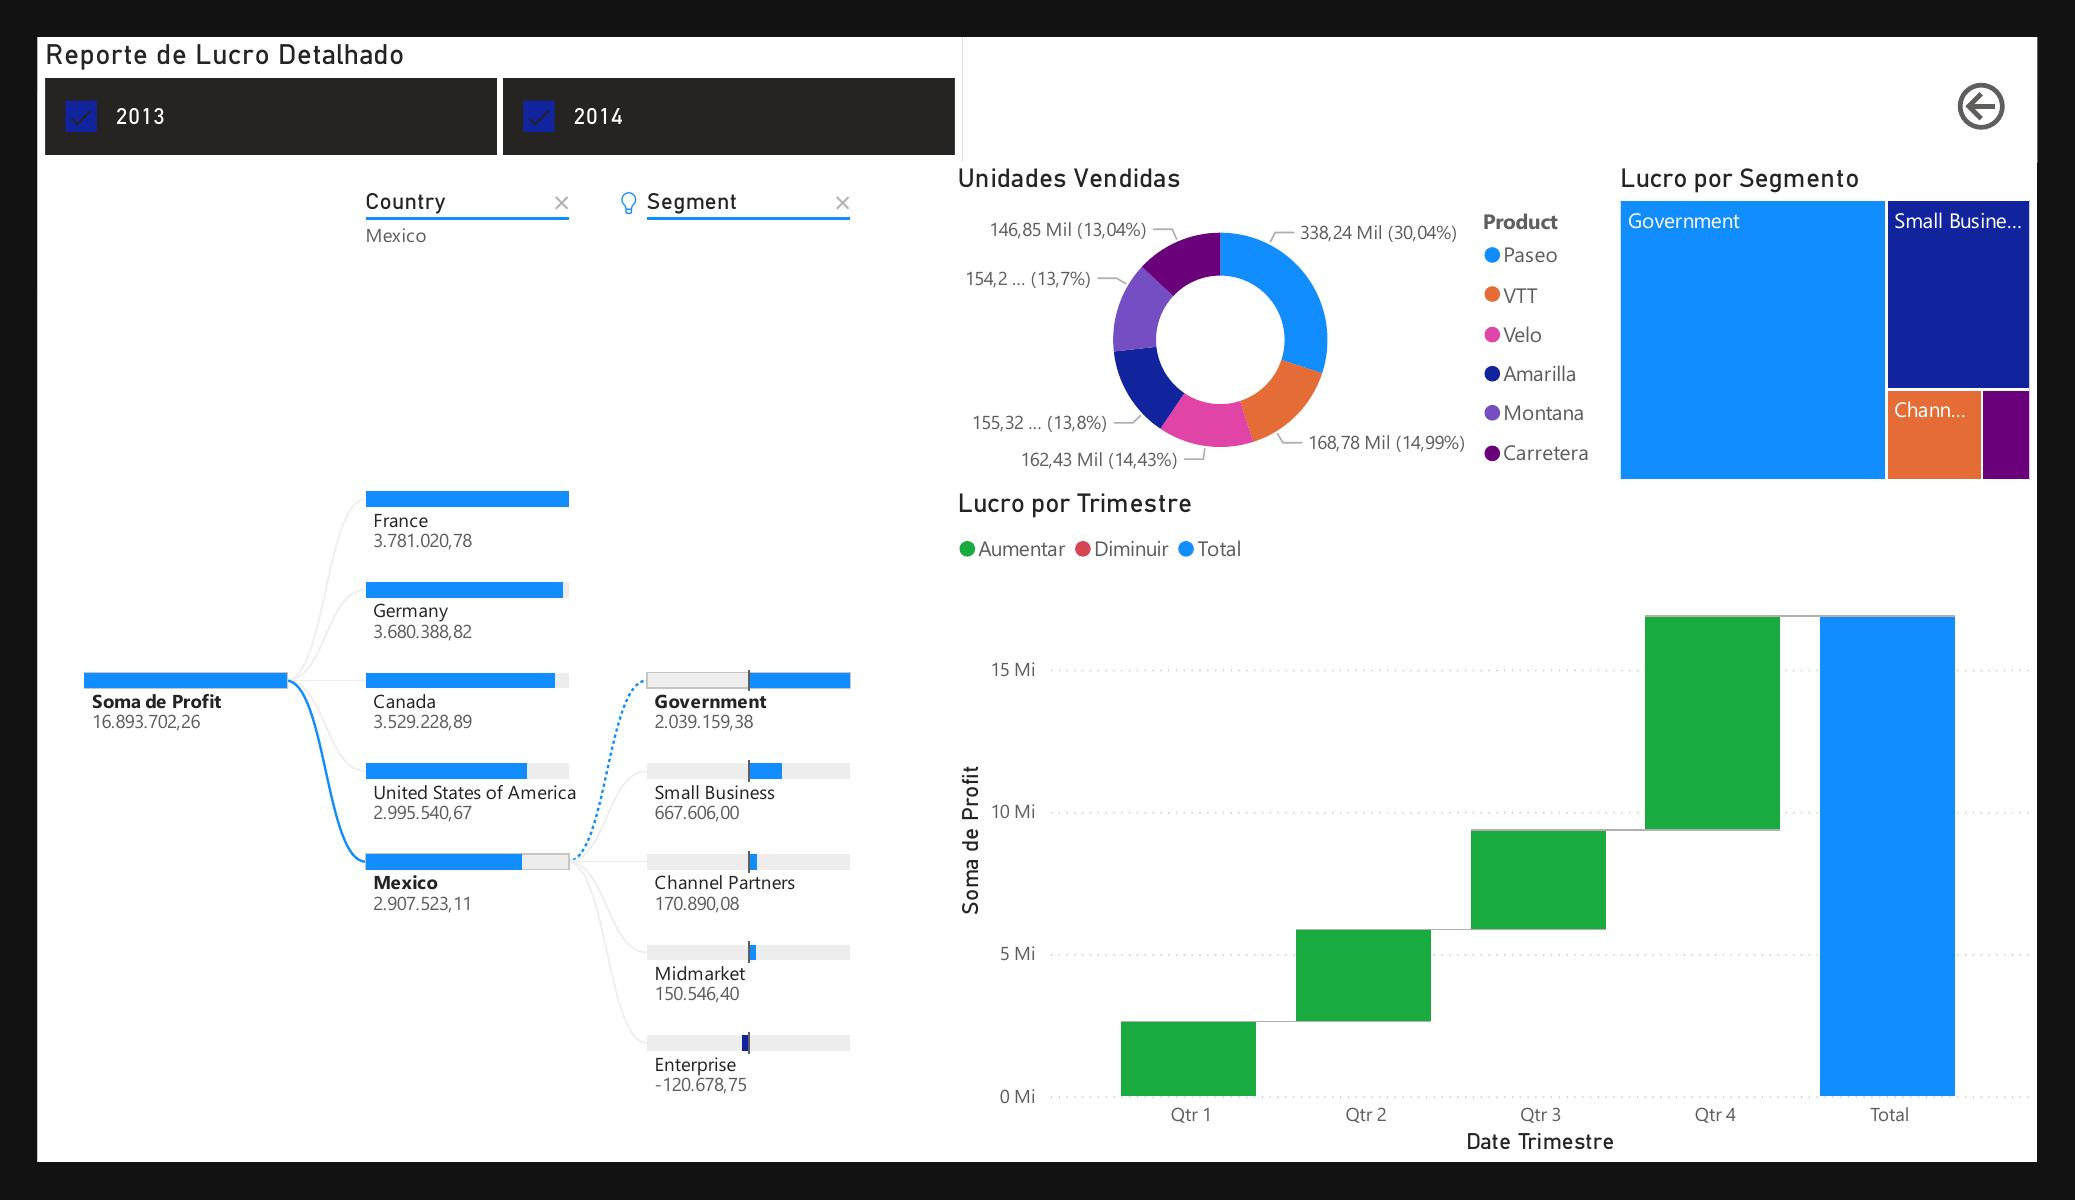

Layout of this report page (visuals, bound fields, positions):
{"tool":"powerbi","page":{"name":"Página 5","canvas":[1280,720],"ordinal":4},"visuals":[{"type":"advancedSlicerVisual","title":"Reporte de Lucro Detalhado","fields":{"Values":["financials.Date.Variation.Hierarquia de datas.Ano"]},"box":[0,0,592,80],"z":0},{"type":"decompositionTreeVisual","fields":{"Analyze":["Sum(financials.Profit)"],"ExplainBy":["financials.Country","financials.Segment"]},"box":[0,80,592,640],"z":1000},{"type":"waterfallChart","title":"Lucro por Trimestre","fields":{"Category":["financials.Date.Variation.Hierarquia de datas.Trimestre"],"Y":["Sum(financials.Profit)"]},"box":[584,288,696,432],"z":2000},{"type":"treemap","title":"Lucro por Segmento","fields":{"Group":["financials.Segment"],"Values":["Sum(financials.Profit)"]},"box":[1008,80,272,208],"z":3000},{"type":"donutChart","title":"Unidades Vendidas","fields":{"Category":["financials.Product"],"Y":["Sum(financials.Units Sold)"]},"box":[584,80,424,208],"z":4000},{"type":"shape","box":[592,0,688,80],"z":5000},{"type":"actionButton","box":[1224,24,40,40],"z":5001}]}

Visuals, with their boxes on the page's 1280x720 design canvas (x1, y1, x2, y2). These are canvas units, not pixel positions in the 2075x1200 screenshot, which may show the page scaled, cropped or inside an application window:
"Reporte de Lucro Detalhado" advancedSlicerVisual: 0, 0, 592, 80
decompositionTreeVisual - Sum(financials.Profit) x financials.Country: 0, 80, 592, 720
"Lucro por Trimestre" waterfallChart: 584, 288, 1280, 720
"Lucro por Segmento" treemap: 1008, 80, 1280, 288
"Unidades Vendidas" donutChart: 584, 80, 1008, 288
shape: 592, 0, 1280, 80
actionButton: 1224, 24, 1264, 64
